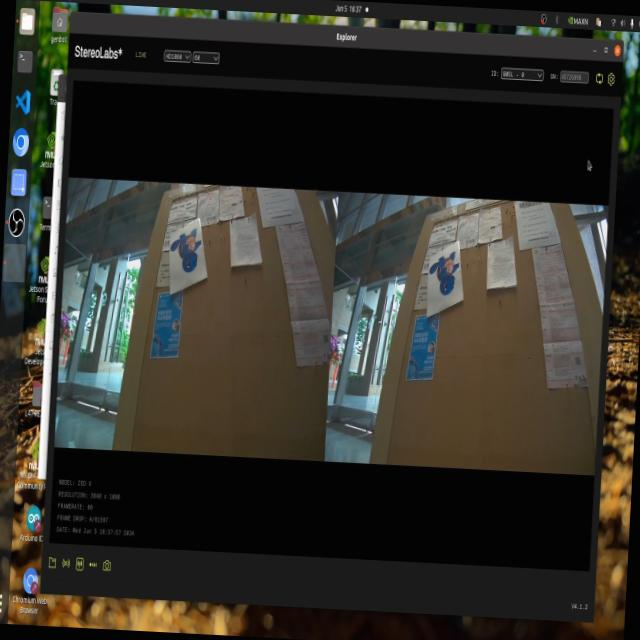blue: (418, 244, 465, 301), (168, 222, 210, 276)
